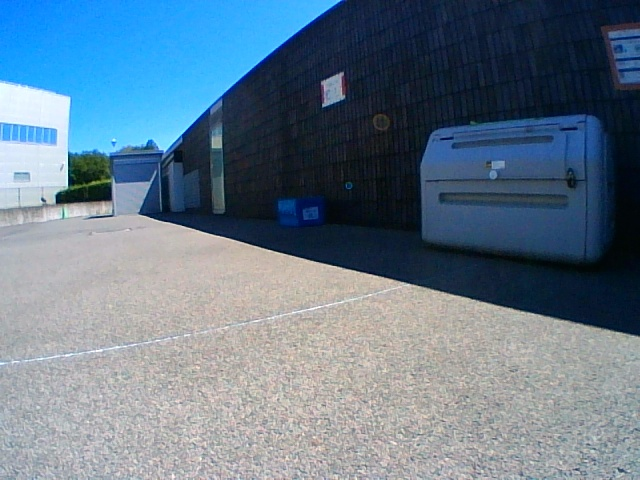blue_box: (277, 196, 323, 227)
tag: (304, 207, 318, 220)
